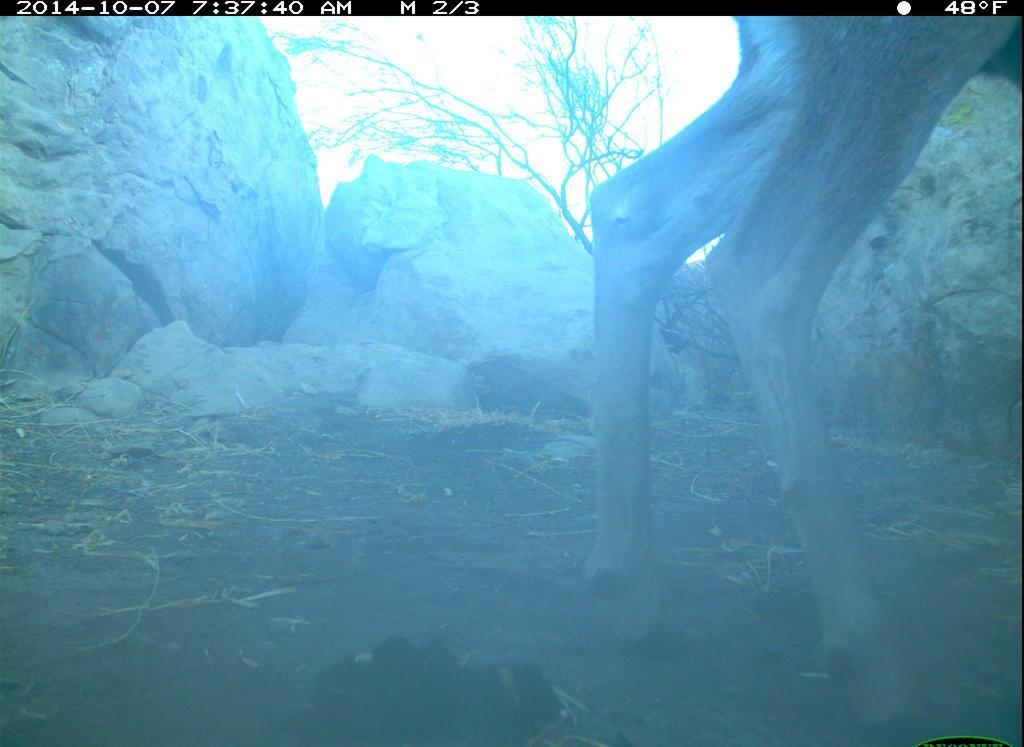deer: (582, 12, 1021, 743)
